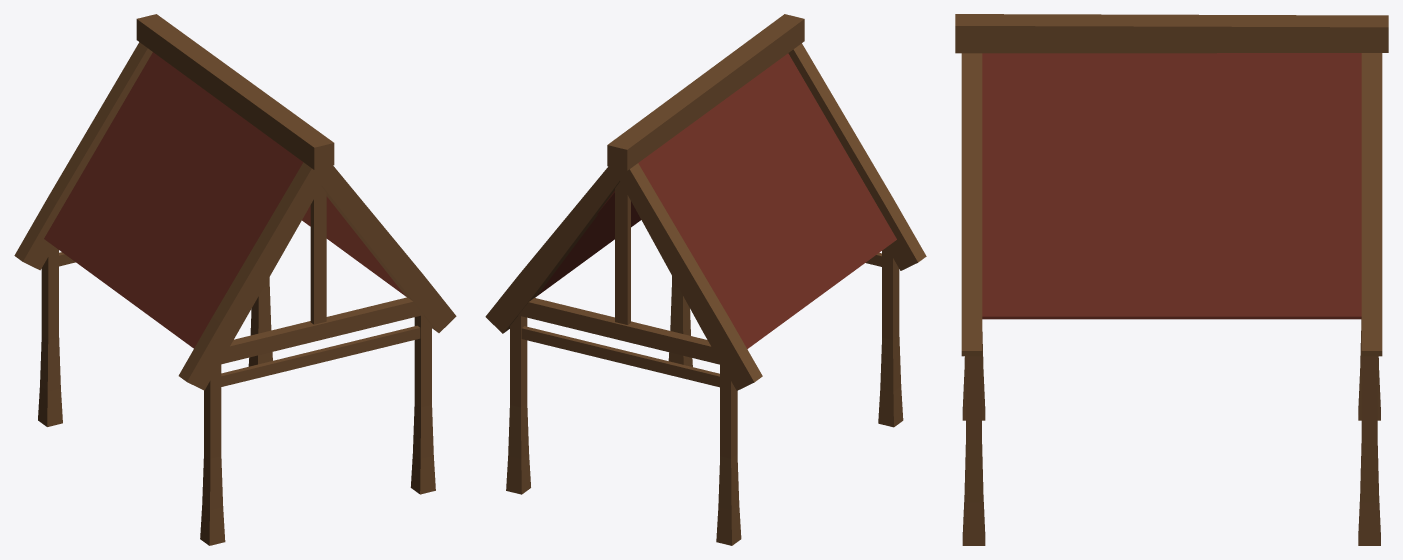
Rendered from Gazebo.fbx.
3 views of the same model, side by side, from view 1: azimuth 30°, elevation 25°; view 2: azimuth 150°, elevation 25°; view 3: azimuth 270°, elevation 25° (orthographic). The views are drawn at different scales.
Visible parts, largest first — view 1: Gazebo; view 2: Gazebo; view 3: Gazebo.
Boxes of the visible parts, x1,y1,x2,y2 form: Gazebo: [14, 14, 456, 545]; Gazebo: [485, 14, 926, 545]; Gazebo: [955, 14, 1388, 545].
Size of the model in its own units: 102 by 135 by 116.
